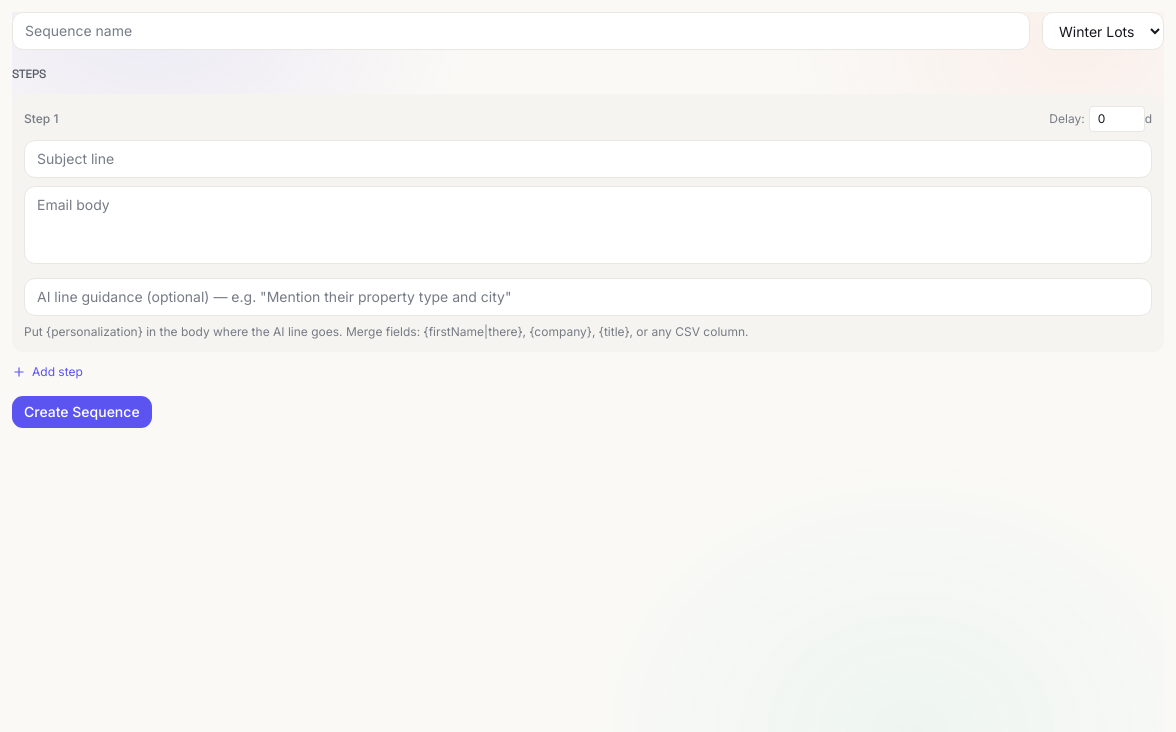
it: CreateSequenceForm — live content risk › shows a 422 CONTENT_HIGH_RISK message from the server
Type "New" into the field with placeholder "Sequence name".
click(521, 31); type("New")  # box x1=12 y1=12 x2=1030 y2=50
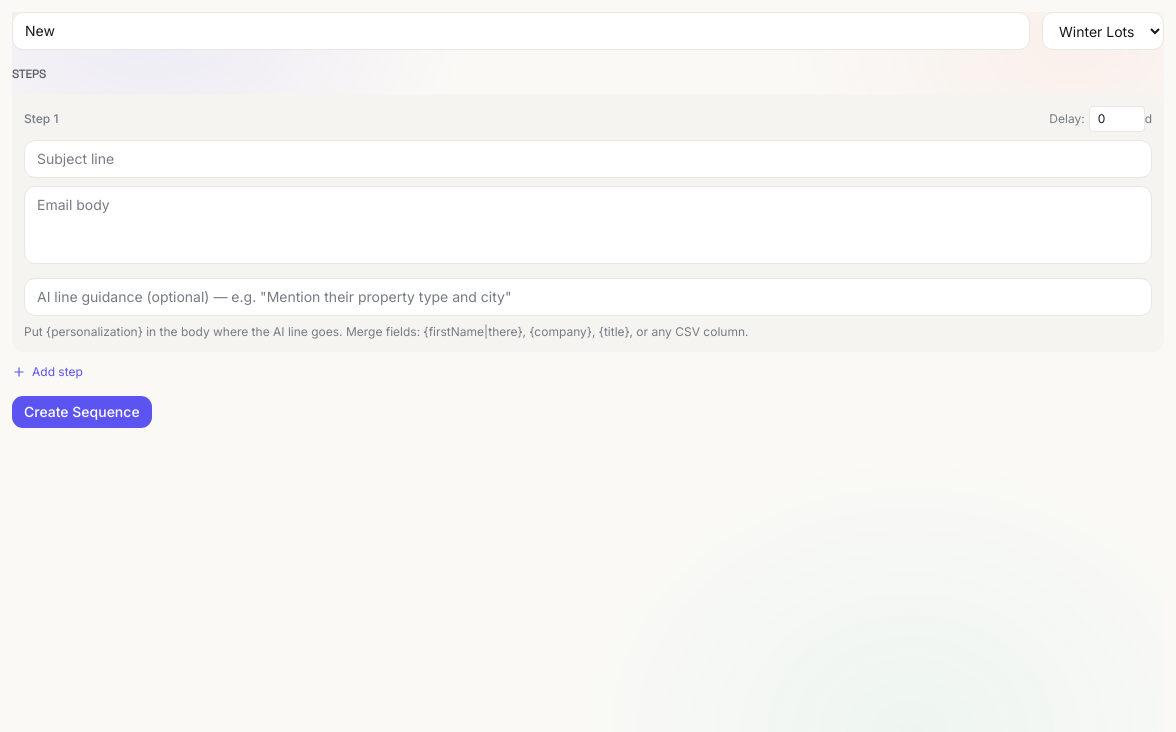
Type "Re: hi" into the field with placeholder "Subject line".
click(588, 159); type("Re: hi")  # box x1=24 y1=140 x2=1152 y2=178
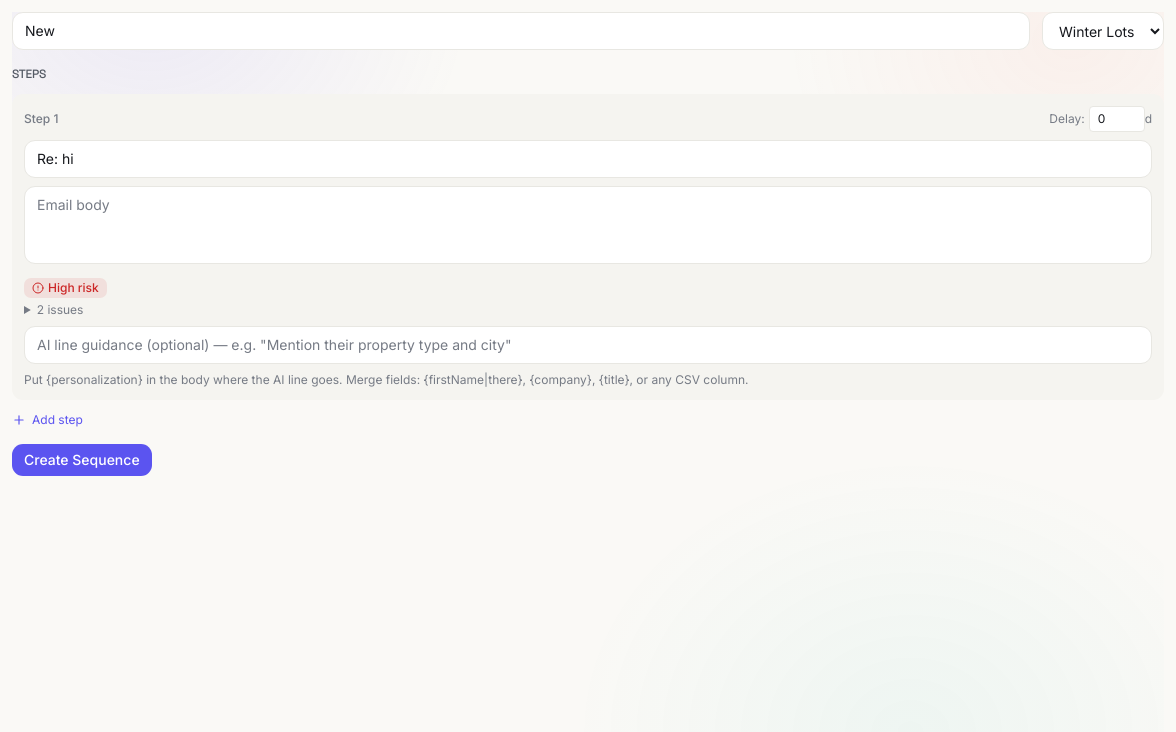
Type "Hello there" into the text box with placeholder "Email body".
click(588, 225); type("Hello there")  # box x1=24 y1=186 x2=1152 y2=264
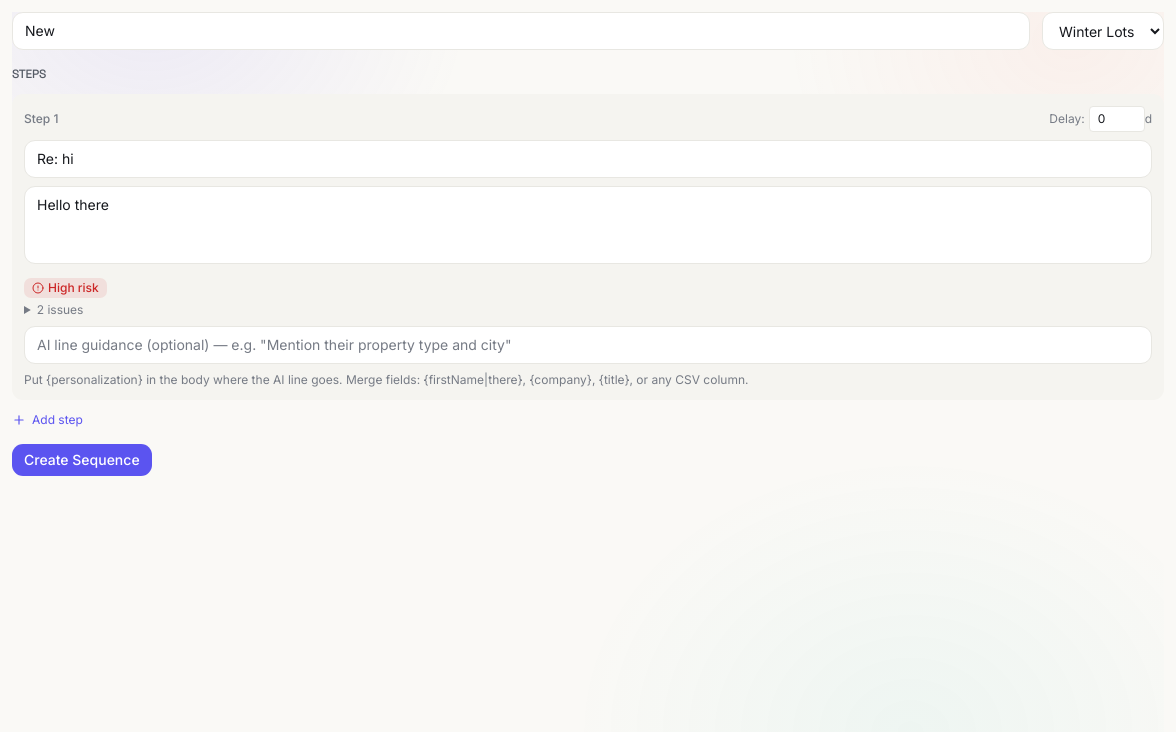
Click the button "Create Sequence".
click(82, 460)  # box x1=12 y1=444 x2=152 y2=476
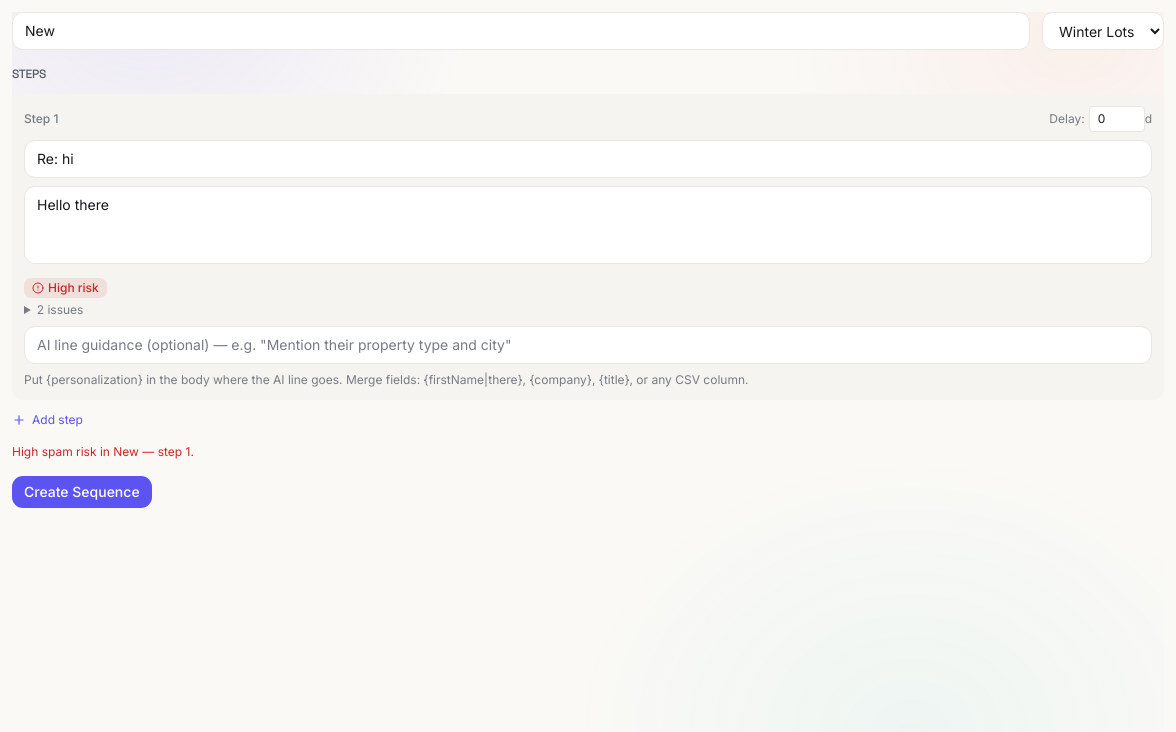
Check: the text "High spam risk in New — step 1." is shown, box x1=12 y1=444 x2=194 y2=459
